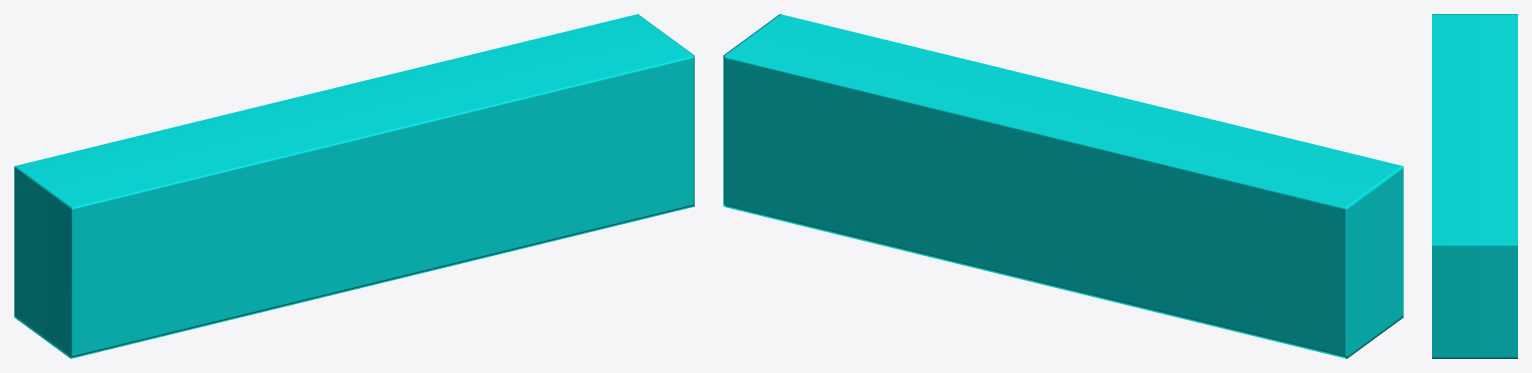
The model's file is Book_Multi_Large_02.fbx.
3 views of the same model, side by side, from view 1: azimuth 30°, elevation 25°; view 2: azimuth 150°, elevation 25°; view 3: azimuth 270°, elevation 25° (orthographic). The views are drawn at different scales.
Parts seen in each view (by area): view 1: Book_Multi_Large_02; view 2: Book_Multi_Large_02; view 3: Book_Multi_Large_02.
Boxes of the visible parts, <box> form: Book_Multi_Large_02: <box>14,14,694,358</box>; Book_Multi_Large_02: <box>723,14,1403,358</box>; Book_Multi_Large_02: <box>1432,14,1517,358</box>.
Size of the model in its own units: 136 by 31.55 by 21.42.
